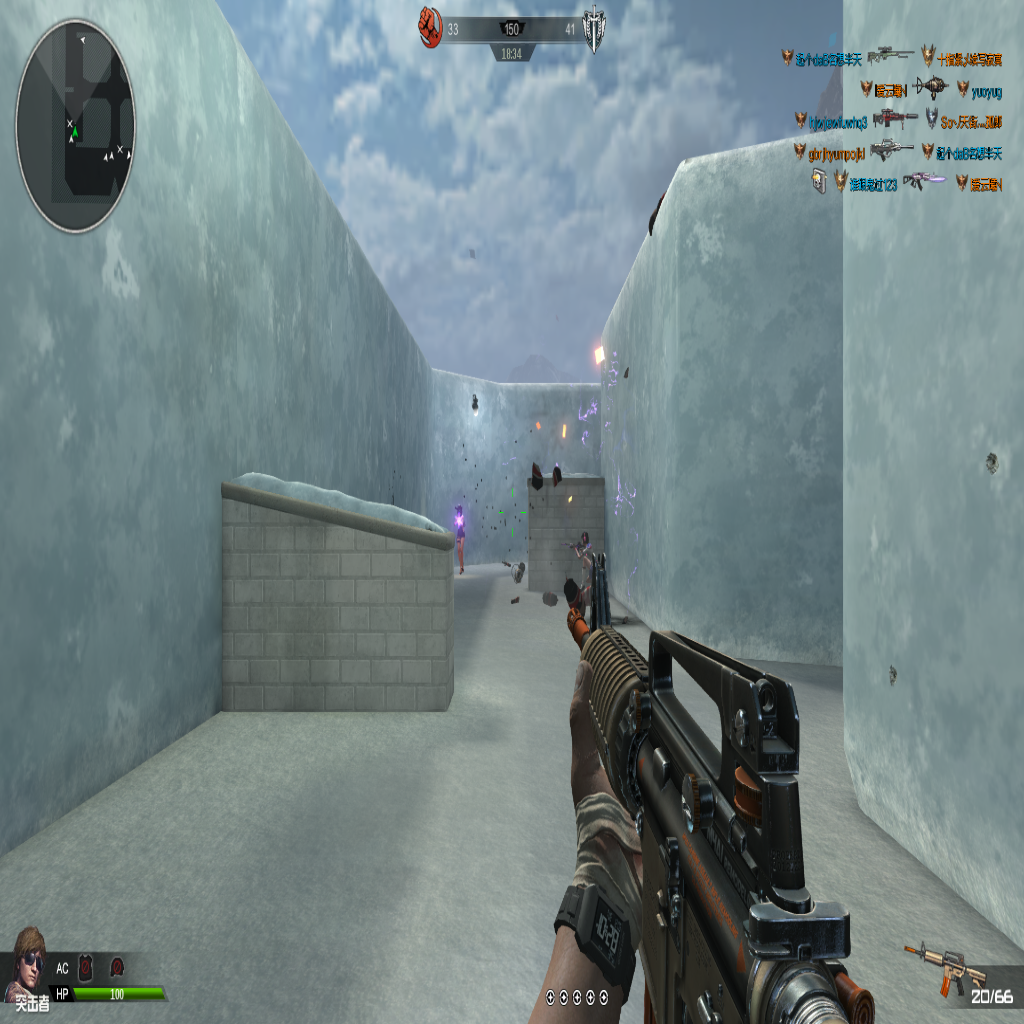ct: (453, 503, 466, 574)
